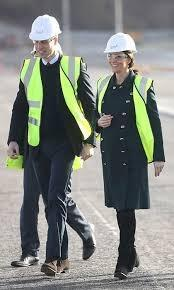helmet: (102, 31, 138, 62), (28, 14, 63, 43)
person: (6, 14, 95, 279), (97, 29, 167, 281)
vest: (19, 55, 95, 147), (98, 69, 159, 158)
